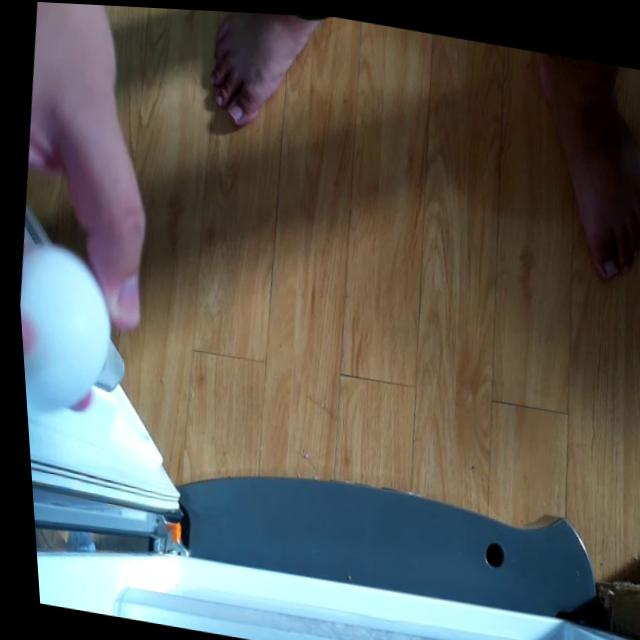egg: (13, 246, 115, 433)
